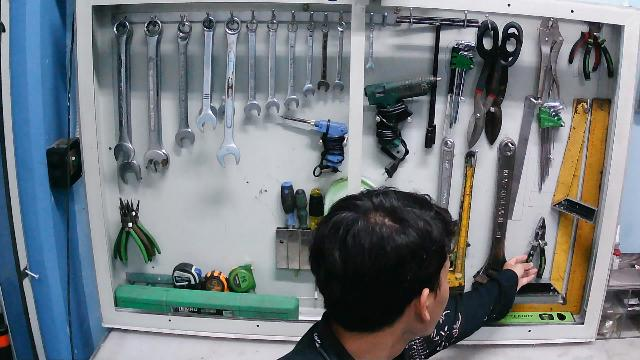tang_kombinasi: (523, 213, 549, 282)
